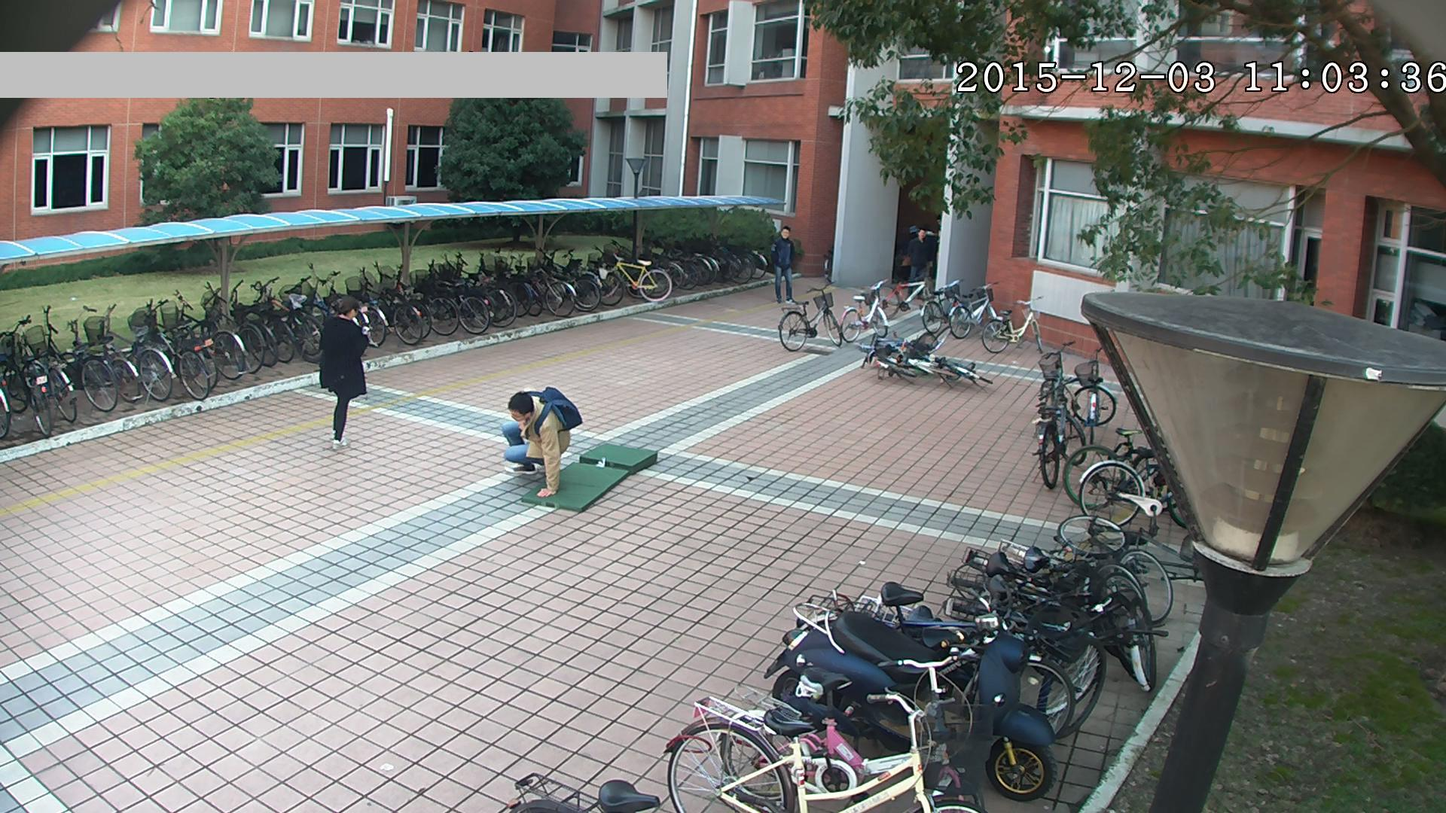person: (469, 383, 591, 495), (309, 291, 374, 452), (761, 219, 803, 307), (899, 222, 936, 279)
